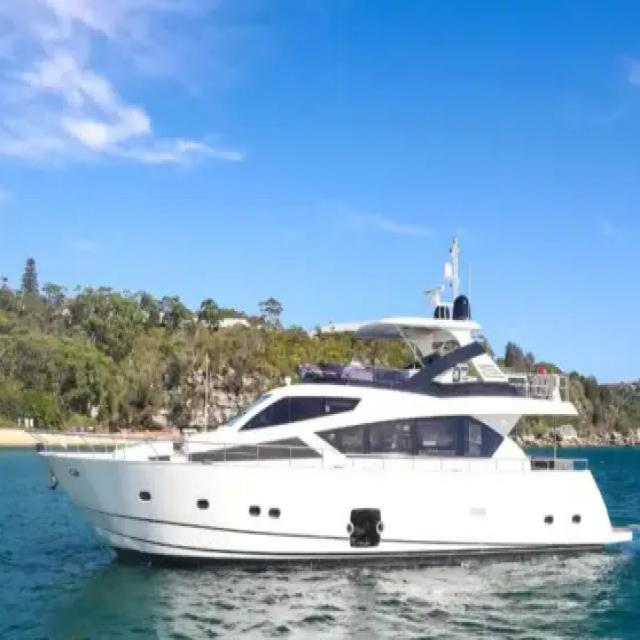houseboat: (30, 241, 635, 569)
